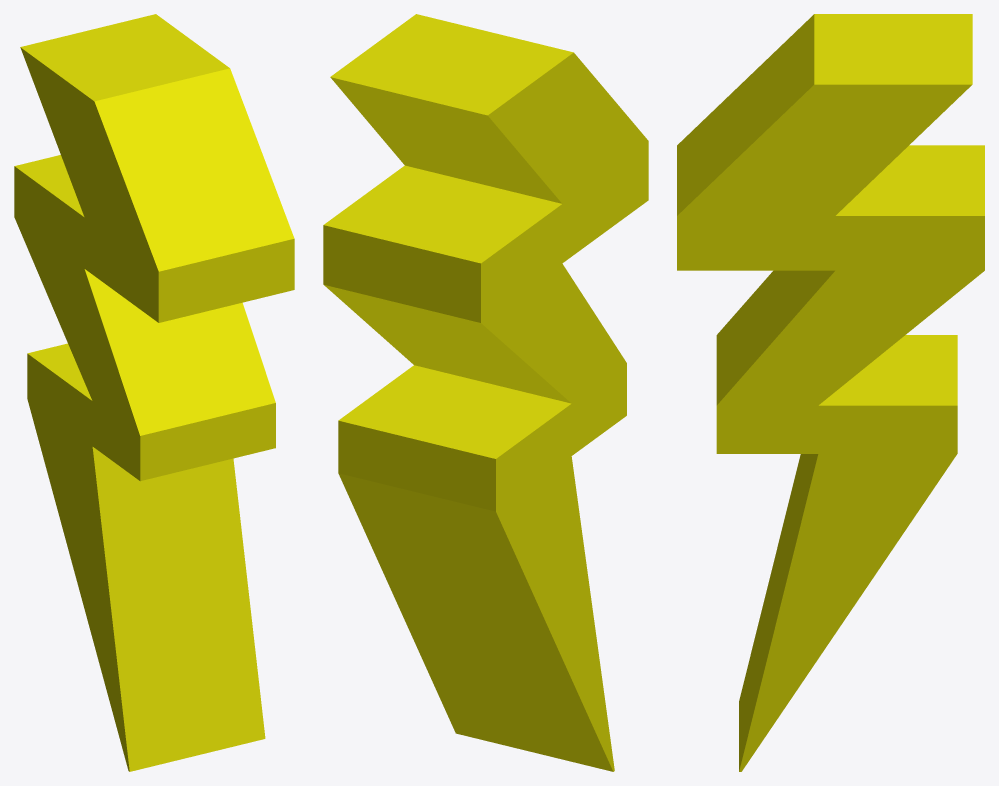
The model's file is flash.fbx.
The picture shows the model from 3 angles, left to right: view 1: azimuth 30°, elevation 25°; view 2: azimuth 150°, elevation 25°; view 3: azimuth 270°, elevation 25°; orthographic projection. The views are drawn at different scales.
Parts seen in each view (by area): view 1: pCube2; view 2: pCube2; view 3: pCube2.
Part boxes in pixels (bbox=[...]): pCube2: bbox=[14, 14, 294, 771]; pCube2: bbox=[323, 14, 648, 771]; pCube2: bbox=[677, 14, 984, 771].
Size of the model in its own units: 12.65 by 57.42 by 23.3.
